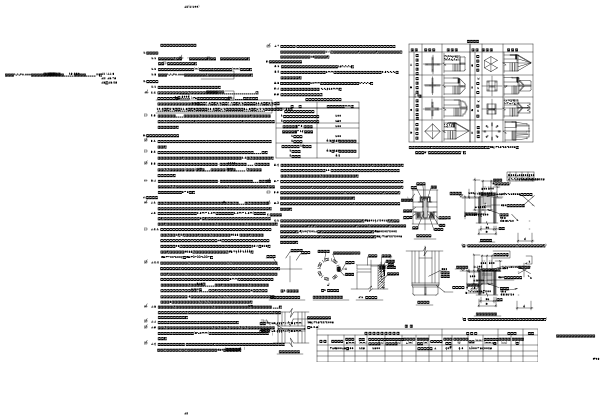corridor: (265, 0, 604, 44)
door: (268, 109, 299, 136), (208, 109, 239, 136), (424, 194, 438, 205), (441, 147, 444, 173), (570, 344, 577, 350), (570, 319, 577, 325), (573, 349, 578, 354), (573, 374, 578, 378), (526, 294, 530, 298), (529, 293, 533, 297), (534, 293, 538, 297), (537, 294, 541, 298), (540, 297, 544, 301), (484, 344, 489, 347), (484, 321, 489, 324), (224, 108, 228, 111), (476, 315, 480, 318), (476, 291, 480, 294), (571, 404, 575, 407), (571, 381, 575, 384), (534, 311, 538, 314), (529, 311, 533, 314), (526, 310, 530, 313), (523, 297, 526, 301), (540, 307, 544, 310), (537, 310, 541, 313), (570, 312, 574, 315), (582, 364, 585, 368), (212, 111, 215, 114), (272, 111, 275, 114), (284, 108, 287, 111), (236, 126, 239, 129), (273, 131, 276, 134), (286, 133, 289, 136), (523, 307, 526, 310), (522, 304, 525, 307), (522, 300, 525, 303), (542, 300, 545, 303), (542, 304, 545, 307), (235, 115, 238, 117), (295, 115, 298, 117), (267, 122, 270, 124), (207, 122, 210, 124), (213, 132, 216, 134), (226, 134, 229, 136), (296, 126, 299, 128)
room: (406, 288, 596, 418), (202, 269, 330, 334), (516, 319, 550, 349), (87, 373, 138, 383), (556, 238, 598, 250), (522, 382, 542, 402), (535, 137, 562, 146), (124, 345, 137, 356)
staircase: (264, 105, 303, 139), (204, 105, 243, 139), (520, 292, 547, 316)
wall: (18, 329, 197, 344), (436, 174, 445, 195), (526, 218, 552, 222), (56, 345, 69, 353), (585, 130, 594, 139), (424, 211, 428, 216), (0, 276, 6, 279), (190, 416, 194, 420), (189, 415, 194, 418), (435, 211, 438, 216), (0, 291, 6, 293), (0, 261, 6, 263), (0, 209, 6, 211), (0, 324, 6, 326), (55, 400, 58, 404), (2, 291, 5, 295), (2, 261, 5, 265), (2, 210, 5, 214), (2, 73, 5, 77), (2, 53, 5, 57), (190, 238, 193, 242), (190, 209, 193, 213), (2, 45, 5, 49), (2, 131, 5, 135), (2, 25, 5, 29), (1, 354, 6, 356), (0, 238, 5, 240), (0, 174, 5, 176), (0, 72, 5, 74), (0, 45, 5, 47), (188, 237, 193, 239), (188, 223, 193, 225), (188, 208, 193, 210), (0, 53, 5, 55), (54, 400, 59, 402), (96, 399, 101, 401), (29, 393, 34, 395), (0, 130, 5, 132), (0, 24, 5, 26), (3, 355, 6, 358), (180, 53, 184, 55)
window: (213, 132, 216, 134), (226, 134, 229, 136), (273, 132, 276, 134), (286, 134, 289, 136), (483, 372, 486, 374), (483, 351, 486, 353), (212, 112, 214, 114), (225, 109, 227, 111), (236, 115, 238, 117), (272, 111, 274, 113), (285, 108, 287, 110), (296, 115, 298, 117), (267, 122, 269, 124), (207, 122, 209, 124), (236, 126, 238, 128), (296, 126, 298, 128), (484, 402, 486, 404), (325, 119, 327, 120), (325, 121, 327, 122), (484, 382, 486, 383), (215, 111, 216, 112), (275, 111, 276, 112), (288, 109, 289, 110), (208, 121, 209, 122), (212, 131, 213, 132), (225, 135, 226, 136), (236, 129, 237, 130), (296, 128, 297, 129), (268, 120, 269, 121), (297, 117, 298, 118), (272, 131, 273, 132), (368, 119, 369, 120), (368, 121, 369, 122), (423, 190, 424, 191), (421, 190, 422, 191), (419, 190, 420, 191), (442, 190, 443, 191), (438, 190, 439, 191), (440, 190, 441, 191), (228, 110, 229, 110), (237, 118, 238, 118), (297, 122, 297, 122), (285, 135, 286, 135), (300, 122, 300, 122), (326, 120, 327, 120), (368, 120, 369, 120), (422, 197, 423, 197), (420, 197, 421, 197), (441, 197, 442, 197), (439, 197, 440, 197)
